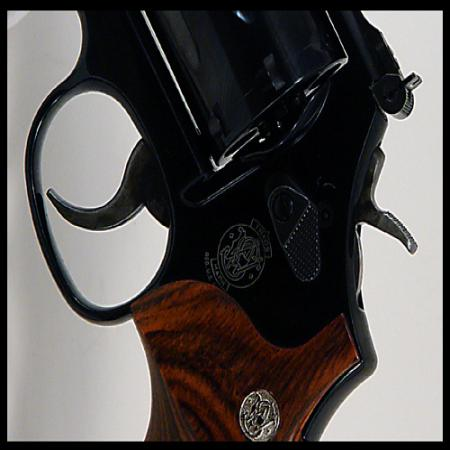Pistol: (24, 8, 422, 442)
